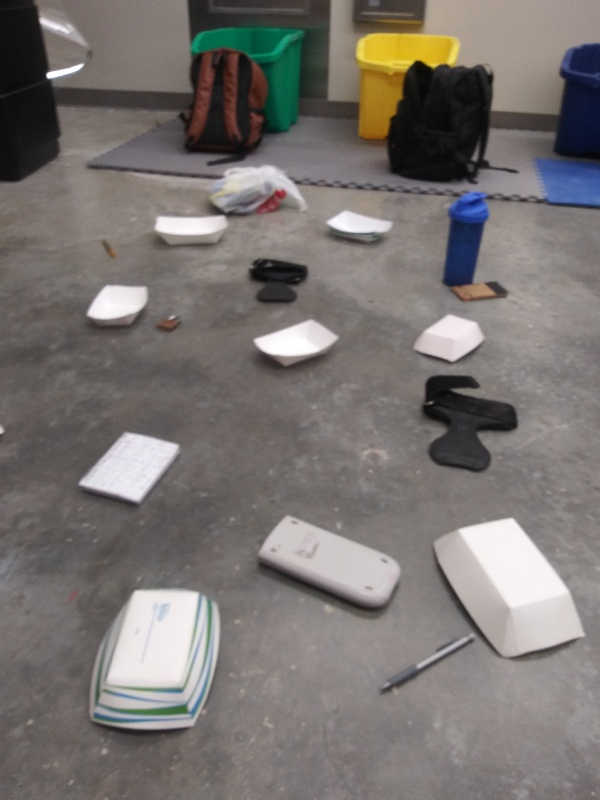plate: (427, 511, 593, 665), (83, 585, 224, 736), (251, 314, 343, 371), (409, 311, 488, 364), (86, 280, 154, 332), (320, 203, 399, 247), (152, 210, 234, 251)
